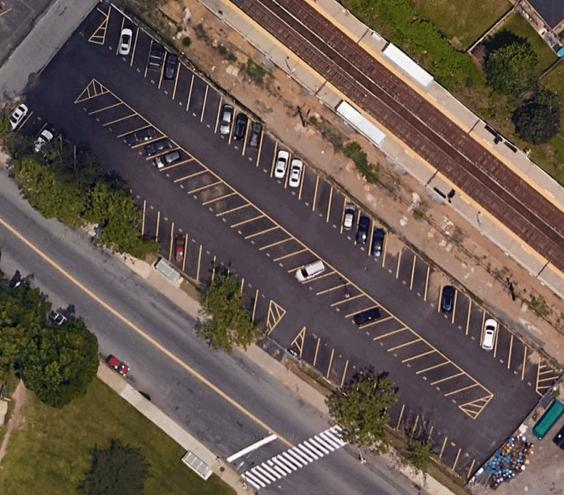parkingspot: (102, 2, 544, 396), (71, 90, 496, 409), (130, 188, 273, 338), (384, 397, 477, 484), (299, 325, 364, 395), (7, 101, 63, 154), (59, 133, 93, 173)
